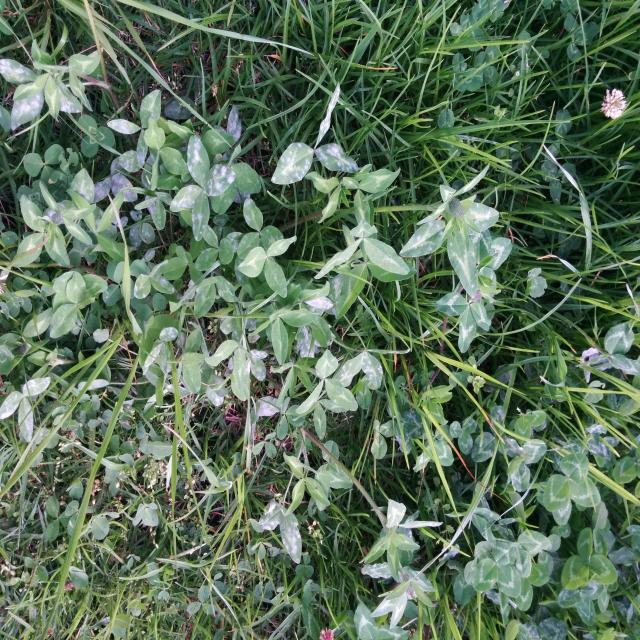Four Leaf Clover: (172, 135, 234, 241)
